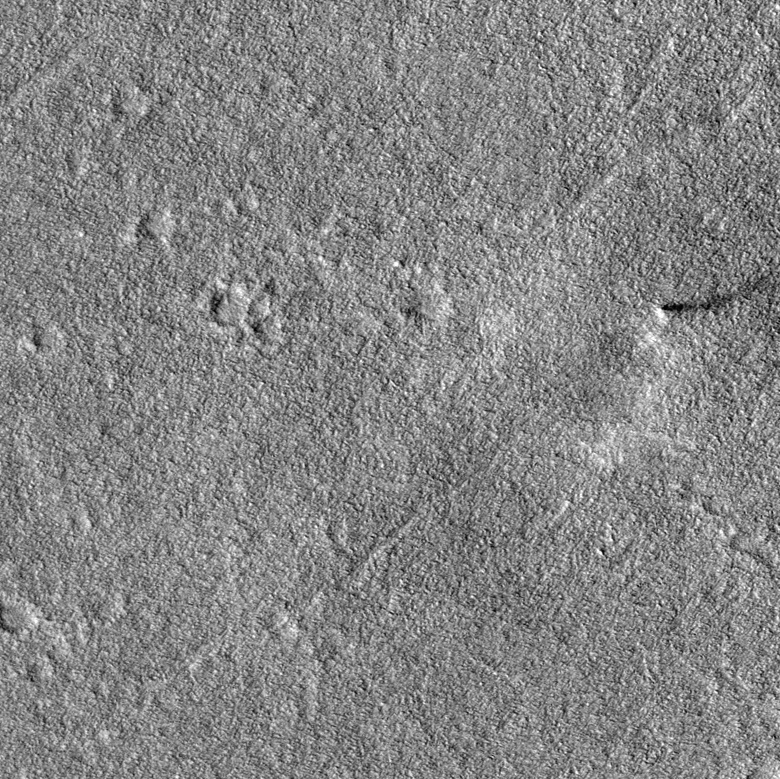dust_devil: (653, 269, 769, 321)
